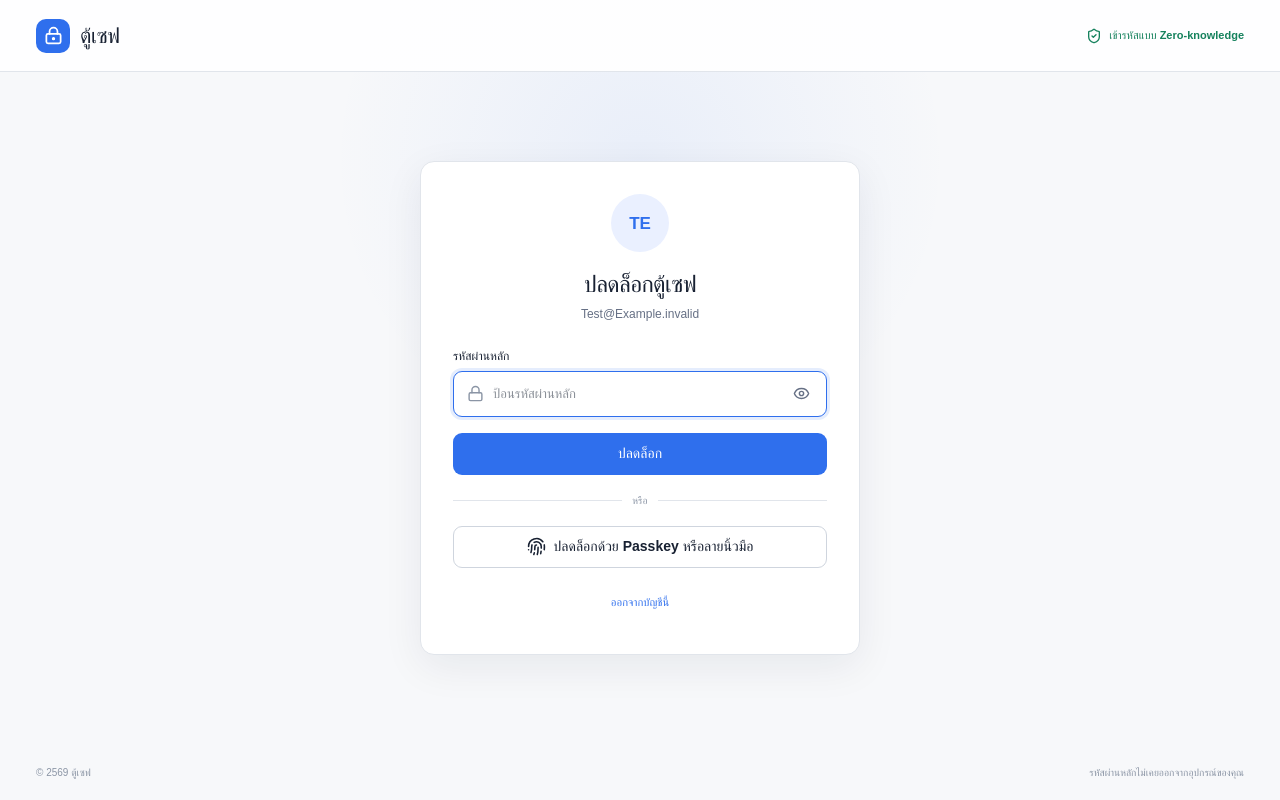
it: screens › shows the passkey button on the unlock screen only when this device is enrolled
Step 1. Click the button "ปลดล็อกด้วย Passkey หรือลายนิ้วมือ" → point(640, 547), box [453, 526, 827, 568]
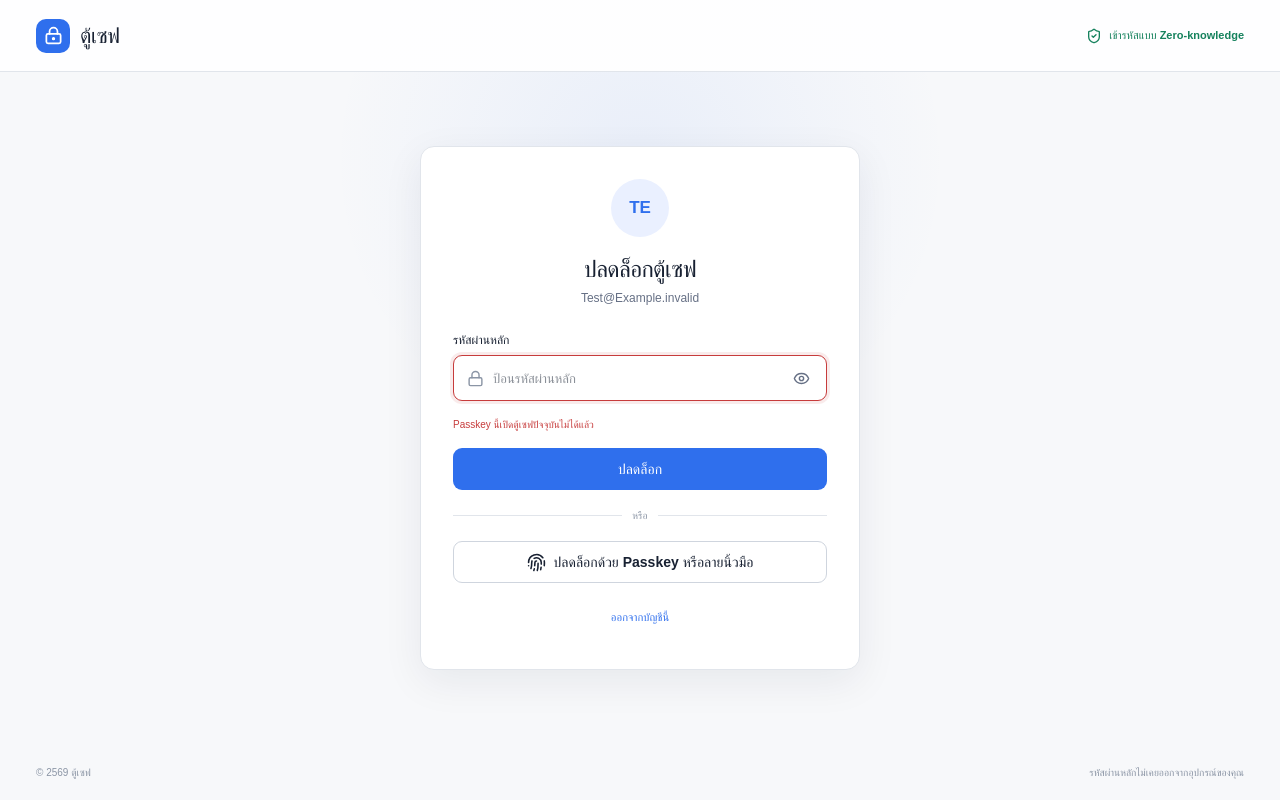
Check: the text "Passkey นี้เปิดตู้เซฟปัจจุบันไม่ได้แล้ว" is shown, box [453, 419, 594, 430]
